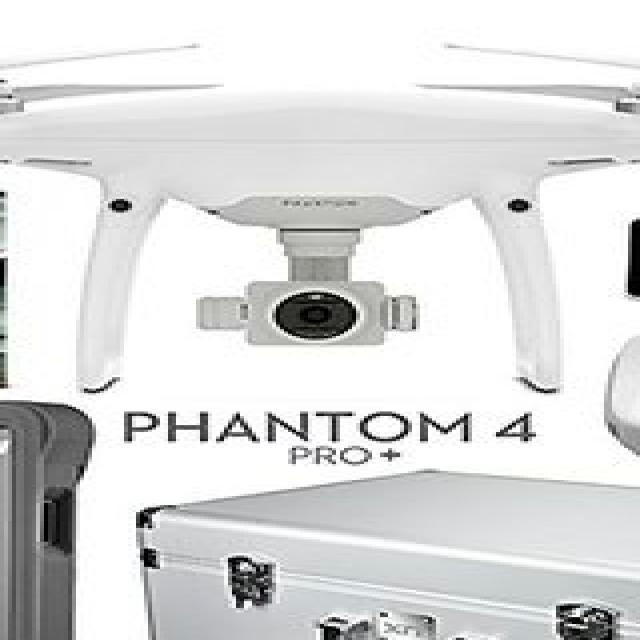drone: (0, 23, 640, 270)
